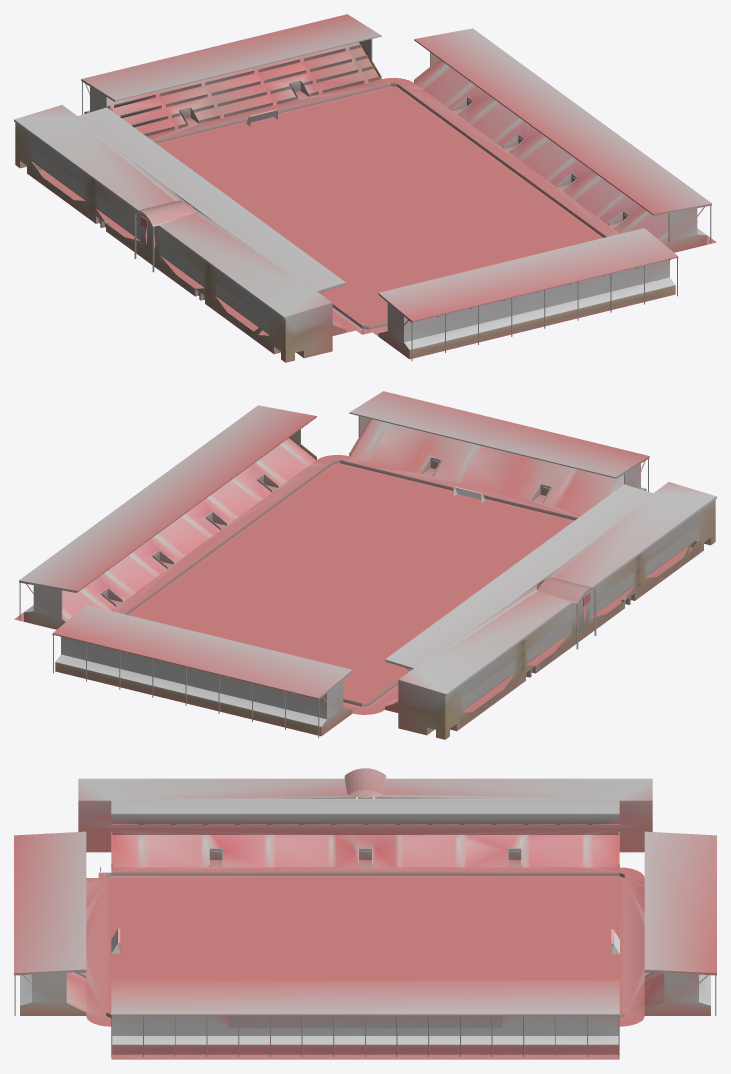
The model's file is NA_LSV_Stadium_Base.fbx.
The picture shows the model from 3 angles, top to bottom: view 1: azimuth 30°, elevation 25°; view 2: azimuth 150°, elevation 25°; view 3: azimuth 270°, elevation 25°; orthographic projection. The views are drawn at different scales.
Parts seen in each view (by area): view 1: NA_LSV_Stadium_Base; view 2: NA_LSV_Stadium_Base; view 3: NA_LSV_Stadium_Base.
Part boxes in pixels (<box>): NA_LSV_Stadium_Base: <box>14,14,716,362</box>; NA_LSV_Stadium_Base: <box>14,391,716,739</box>; NA_LSV_Stadium_Base: <box>14,768,716,1059</box>.
Bounding box in the file's own units: 119 × 13.32 × 151.
